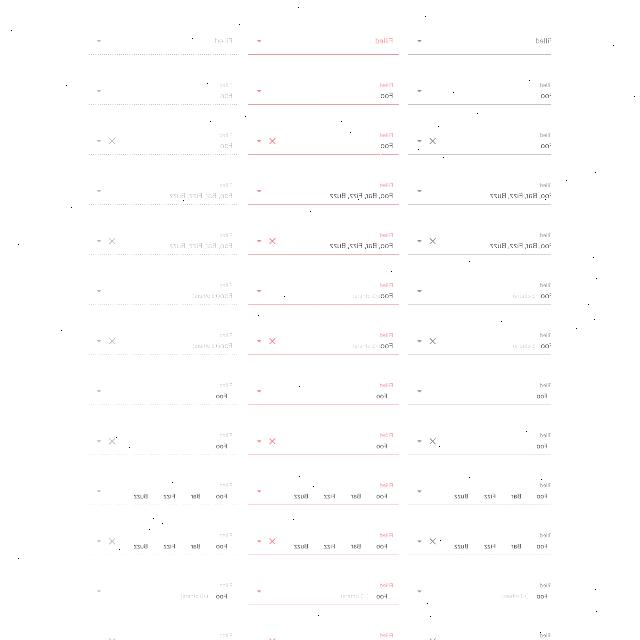VCombobox: (246, 327, 399, 357), (246, 276, 399, 306), (246, 477, 399, 507), (88, 426, 240, 456), (89, 276, 239, 306), (246, 77, 399, 106), (246, 378, 399, 407), (88, 76, 240, 105), (88, 227, 240, 256), (407, 326, 551, 356), (407, 426, 551, 456), (246, 28, 399, 56), (246, 127, 399, 155), (246, 428, 399, 456), (246, 528, 399, 556), (246, 228, 399, 256), (408, 126, 550, 156), (408, 476, 550, 506), (408, 276, 550, 306), (88, 28, 240, 56), (88, 127, 240, 155), (88, 378, 240, 406), (88, 178, 240, 206), (247, 178, 399, 206), (88, 528, 240, 556), (247, 578, 399, 606), (89, 327, 239, 355), (89, 578, 239, 606), (89, 477, 239, 505), (407, 378, 551, 407), (408, 77, 550, 106), (408, 28, 550, 56), (408, 178, 550, 206), (408, 578, 550, 606), (408, 227, 550, 255), (408, 528, 550, 556), (408, 626, 550, 640), (247, 628, 399, 640), (89, 628, 239, 640)
